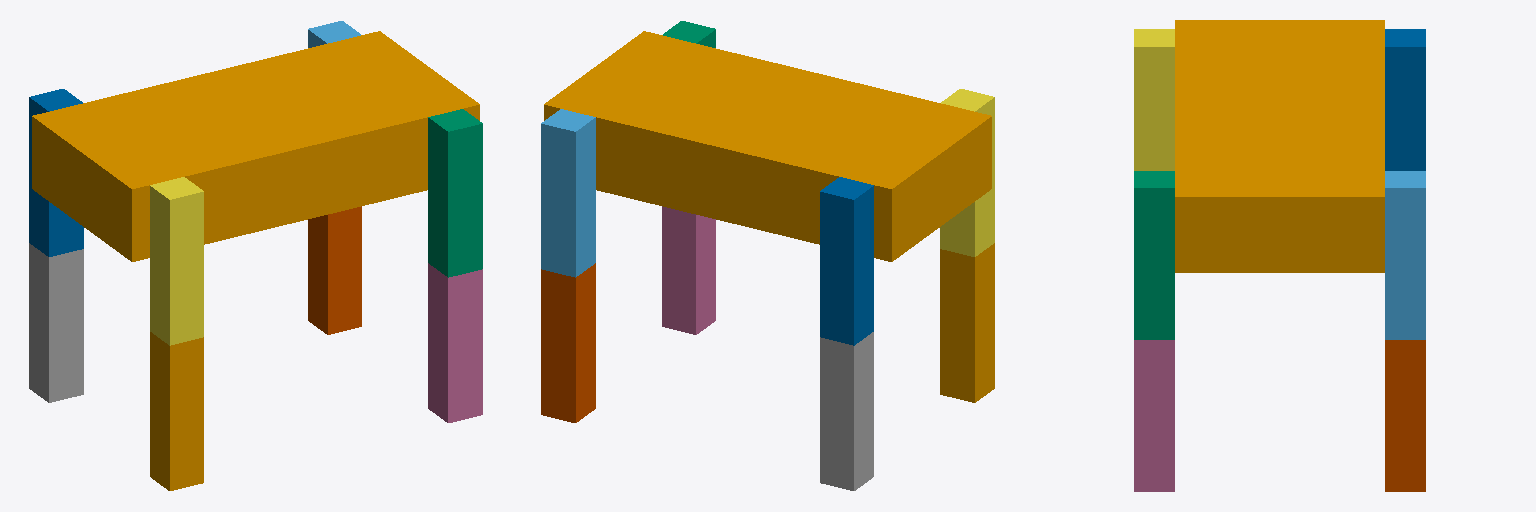
The robot description file, URDF, robot "quadruped_robot":
<robot name="quadruped_robot">

	<!-- * * * Link Definitions * * * -->

 	<link name="base">
		<visual>
		    <origin xyz="0 0 0"/>
			<geometry>
				<box size="0.5 0.25 0.1"/>
			</geometry>
		</visual>	
	</link>

	<link name="up_leg_fl">
		<visual>
		    <origin xyz="0 0.15 -0.05"/>
			<geometry>
				<box size="0.05 0.05 0.2"/>
			</geometry>
		</visual>	
	</link>
	
	<link name="up_leg_fr">
		<visual>
		    <origin xyz="0 -0.15 -0.05"/>
			<geometry>
				<box size="0.05 0.05 0.2"/>
			</geometry>
		</visual>	
	</link>
	
	<link name="up_leg_br">
		<visual>
		    <origin xyz="0 -0.15 -0.05"/>
			<geometry>
				<box size="0.05 0.05 0.2"/>
			</geometry>
		</visual>	
	</link>

	<link name="up_leg_bl">
		<visual>
		    <origin xyz="0 0.15 -0.05"/>
			<geometry>
				<box size="0.05 0.05 0.2"/>
			</geometry>
		</visual>	
	</link>
	

	<link name="bottom_leg_fl">
		<visual>
		    <origin xyz="0 0 -0.1"/>
			<geometry>
				<box size="0.05 0.05 0.2"/>
			</geometry>
		</visual>	
	</link>

	<link name="bottom_leg_fr">
		<visual>
		    <origin xyz="0 0 -0.1"/>
			<geometry>
				<box size="0.05 0.05 0.2"/>
			</geometry>
		</visual>	
	</link>

	<link name="bottom_leg_bl">
		<visual>
		    <origin xyz="0 0 -0.1"/>
			<geometry>
				<box size="0.05 0.05 0.2"/>
			</geometry>
		</visual>	
	</link>

	<link name="bottom_leg_br">
		<visual>
		    <origin xyz="0 0 -0.1"/>
			<geometry>
				<box size="0.05 0.05 0.2"/>
			</geometry>
		</visual>	
	</link>
	<!-- * * * Joint Definitions * * * -->
	
	<joint name="up_fl" type="revolute">
		<parent link="base"/>
		<child link="up_leg_fl"/>
      	<origin xyz="0.2 0 0"/>
      	<axis xyz="0 -1 0"/>
	</joint>

	<joint name="up_fr" type="revolute">
		<parent link="base"/>
		<child link="up_leg_fr"/>
      	<origin xyz="0.2 0 0"/>
      	<axis xyz="0 -1 0"/>
	</joint>

	<joint name="up_bl" type="revolute">
		<parent link="base"/>
		<child link="up_leg_bl"/>
      	<origin xyz="-0.2 0 0"/>
      	<axis xyz="0 -1 0"/>
	</joint>

	<joint name="up_br" type="revolute">
		<parent link="base"/>
		<child link="up_leg_br"/>
      	<origin xyz="-0.2 0 0"/>
      	<axis xyz="0 -1 0"/>
	</joint>

	<joint name="bottom_fl" type="revolute">
		<parent link="up_leg_fl"/>
		<child link="bottom_leg_fl"/>
      	<origin xyz="0 0.15 -0.15"/>
      	<axis xyz="0 -1 0"/>
	</joint>

	<joint name="bottom_fr" type="revolute">
		<parent link="up_leg_fr"/>
		<child link="bottom_leg_fr"/>
      	<origin xyz="0 -0.15 -0.15"/>
      	<axis xyz="0 -1 0"/>
	</joint>

	<joint name="bottom_bl" type="revolute">
		<parent link="up_leg_bl"/>
		<child link="bottom_leg_bl"/>
      	<origin xyz="0 0.15 -0.15"/>
      	<axis xyz="0 -1 0"/>
	</joint>

	<joint name="bottom_br" type="revolute">
		<parent link="up_leg_br"/>
		<child link="bottom_leg_br"/>
      	<origin xyz="0 -0.15 -0.15"/>
      	<axis xyz="0 -1 0"/>
	</joint>
</robot>

--- Facts derived from the render (not from the file) ---
The picture shows the robot from 3 angles, left to right: view 1: azimuth 30°, elevation 25°; view 2: azimuth 150°, elevation 25°; view 3: azimuth 270°, elevation 25°; orthographic projection.
Model quadruped_robot with 9 links and 8 joints (8 revolute), rooted at base, posed every joint at zero.
Links seen in each view (by area): view 1: base, up_leg_fr, up_leg_br, bottom_leg_bl, bottom_leg_fr, bottom_leg_br, bottom_leg_fl, up_leg_bl, up_leg_fl; view 2: base, up_leg_fl, up_leg_bl, bottom_leg_br, bottom_leg_fl, bottom_leg_bl, bottom_leg_fr, up_leg_br, up_leg_fr; view 3: base, up_leg_fl, up_leg_fr, bottom_leg_fl, bottom_leg_fr, up_leg_br, up_leg_bl.
Link boxes in pixels (x1=…): base: x1=32, y1=31, x2=479, y2=261; up_leg_fr: x1=428, y1=109, x2=482, y2=277; up_leg_br: x1=150, y1=177, x2=203, y2=345; bottom_leg_bl: x1=29, y1=243, x2=83, y2=402; bottom_leg_fr: x1=428, y1=263, x2=482, y2=422; bottom_leg_br: x1=150, y1=332, x2=203, y2=490; bottom_leg_fl: x1=308, y1=206, x2=361, y2=334; up_leg_bl: x1=29, y1=89, x2=83, y2=256; up_leg_fl: x1=308, y1=21, x2=360, y2=47; base: x1=544, y1=31, x2=991, y2=261; up_leg_fl: x1=541, y1=109, x2=595, y2=277; up_leg_bl: x1=820, y1=177, x2=873, y2=345; bottom_leg_br: x1=940, y1=243, x2=994, y2=402; bottom_leg_fl: x1=541, y1=263, x2=595, y2=422; bottom_leg_bl: x1=820, y1=332, x2=873, y2=490; bottom_leg_fr: x1=662, y1=206, x2=715, y2=334; up_leg_br: x1=940, y1=89, x2=994, y2=256; up_leg_fr: x1=663, y1=21, x2=715, y2=47; base: x1=1175, y1=20, x2=1384, y2=272; up_leg_fl: x1=1385, y1=171, x2=1425, y2=339; up_leg_fr: x1=1134, y1=171, x2=1174, y2=339; bottom_leg_fl: x1=1385, y1=340, x2=1425, y2=491; bottom_leg_fr: x1=1134, y1=340, x2=1174, y2=491; up_leg_br: x1=1134, y1=29, x2=1174, y2=170; up_leg_bl: x1=1385, y1=29, x2=1425, y2=170.
Bounding box of the posed robot: 0.5 × 0.35 × 0.4 m (x, y, z).
Geometry: primitives only (box / cylinder / sphere), no mesh files.